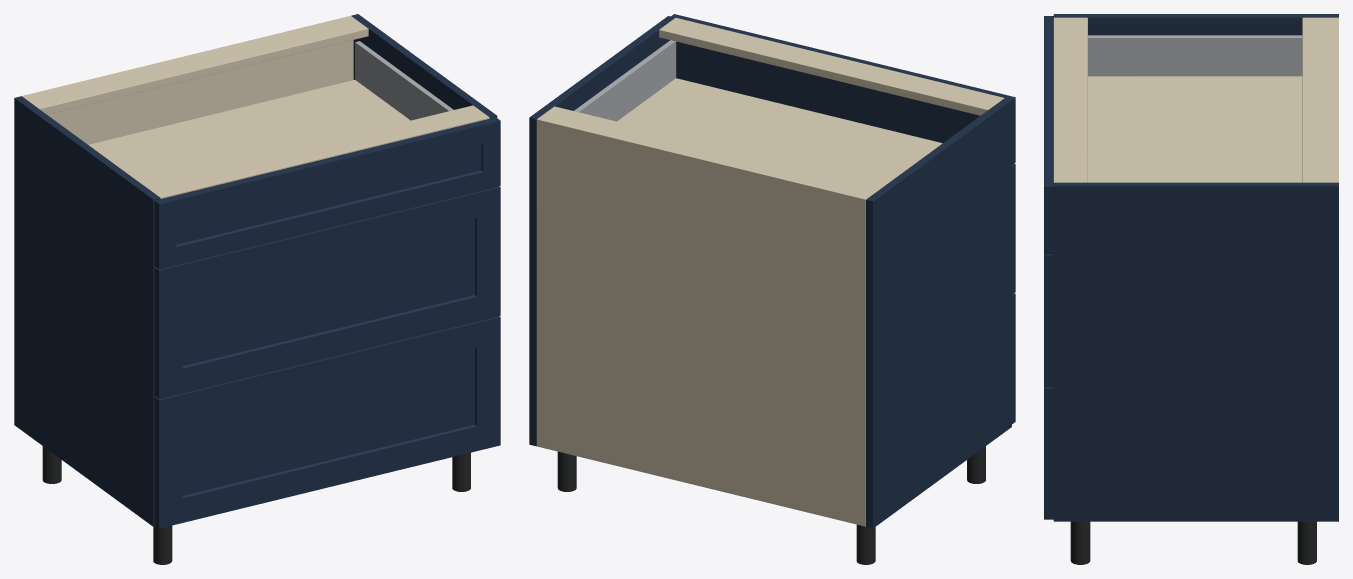
The model's file is oppein-ply-bss-3db33.glb.
3 views of the same model, side by side, from view 1: azimuth 30°, elevation 25°; view 2: azimuth 150°, elevation 25°; view 3: azimuth 270°, elevation 25° (orthographic). The views are drawn at different scales.
Parts seen in each view (by area): view 1: Cabinet side, Drawer front, Drawer front.001, Drawer front.002, Drawer floor.002, Cabinet back, Top support rail, Top support rail.001, Drawer side.005, Cabinet side.001, Adjustable foot.001, Adjustable foot.003 (+1 smaller); view 2: Cabinet back, Cabinet side, Drawer floor.002, Drawer front.002, Top support rail.001, Cabinet side.001, Top support rail, Drawer side.005, Cabinet bottom, Adjustable foot, Adjustable foot.002; view 3: Cabinet side.001, Drawer floor.002, Drawer side.004, Top support rail.001, Top support rail, Cabinet side, Drawer front.002, Drawer front, Drawer front.001, Cabinet back, Adjustable foot.003, Adjustable foot.002.
Boxes of the visible parts, x1=… form: Cabinet side: x1=14, y1=96, x2=160, y2=526; Drawer front: x1=154, y1=316, x2=500, y2=528; Drawer front.001: x1=154, y1=186, x2=500, y2=398; Drawer front.002: x1=154, y1=117, x2=500, y2=269; Drawer floor.002: x1=88, y1=80, x2=410, y2=185; Cabinet back: x1=22, y1=16, x2=353, y2=144; Top support rail: x1=24, y1=17, x2=368, y2=114; Top support rail.001: x1=144, y1=105, x2=489, y2=198; Drawer side.005: x1=355, y1=41, x2=453, y2=120; Cabinet side.001: x1=351, y1=14, x2=497, y2=118; Adjustable foot.001: x1=153, y1=525, x2=172, y2=564; Adjustable foot.003: x1=452, y1=452, x2=470, y2=491; Cabinet back: x1=536, y1=117, x2=867, y2=526; Cabinet side: x1=866, y1=98, x2=1011, y2=528; Drawer floor.002: x1=617, y1=78, x2=942, y2=186; Drawer front.002: x1=671, y1=14, x2=1015, y2=164; Top support rail.001: x1=659, y1=17, x2=1004, y2=115; Cabinet side.001: x1=529, y1=16, x2=674, y2=446; Top support rail: x1=540, y1=106, x2=883, y2=197; Drawer side.005: x1=574, y1=40, x2=676, y2=121; Cabinet bottom: x1=537, y1=440, x2=865, y2=526; Adjustable foot: x1=856, y1=524, x2=875, y2=564; Adjustable foot.002: x1=557, y1=451, x2=576, y2=491; Cabinet side.001: x1=1053, y1=182, x2=1338, y2=521; Drawer floor.002: x1=1088, y1=76, x2=1302, y2=182; Drawer side.004: x1=1088, y1=35, x2=1302, y2=76; Top support rail.001: x1=1053, y1=17, x2=1087, y2=182; Top support rail: x1=1302, y1=17, x2=1333, y2=182; Cabinet side: x1=1053, y1=14, x2=1338, y2=35; Drawer front.002: x1=1044, y1=16, x2=1053, y2=253; Drawer front: x1=1044, y1=387, x2=1053, y2=519; Drawer front.001: x1=1044, y1=254, x2=1053, y2=386; Cabinet back: x1=1333, y1=17, x2=1338, y2=182; Adjustable foot.003: x1=1070, y1=521, x2=1090, y2=564; Adjustable foot.002: x1=1297, y1=521, x2=1316, y2=564.
Bounding box in the file's own units: 0.8382 × 0.8763 × 0.6064.
